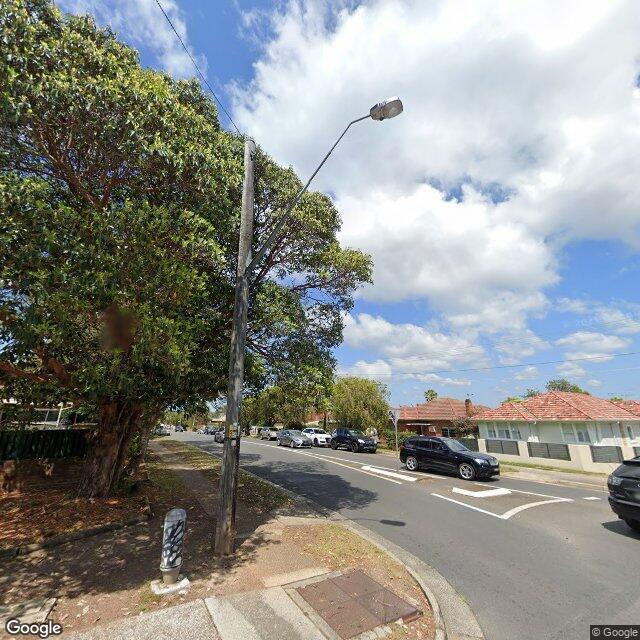streetlight: (240, 97, 403, 283)
timber-pole: (212, 140, 255, 556)
